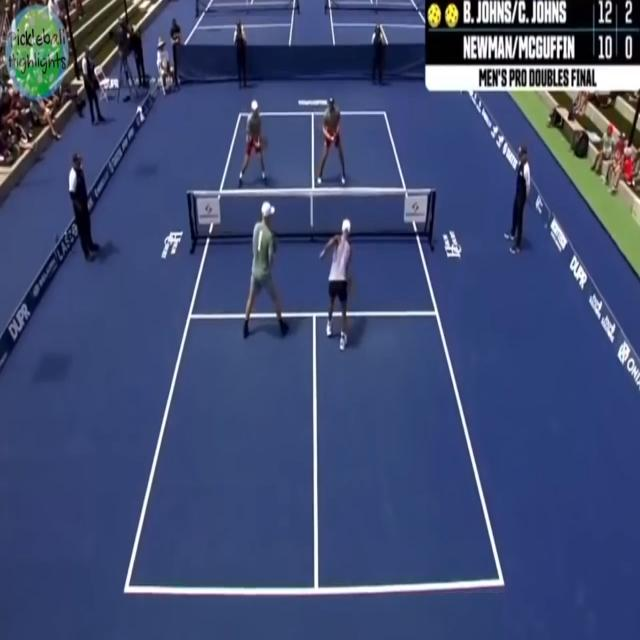Court: (129, 114, 502, 588)
